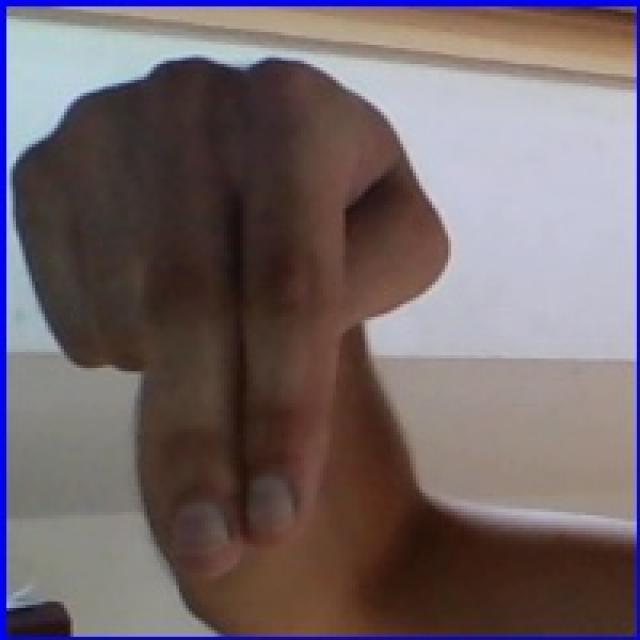Letra-N: (7, 29, 478, 586)
